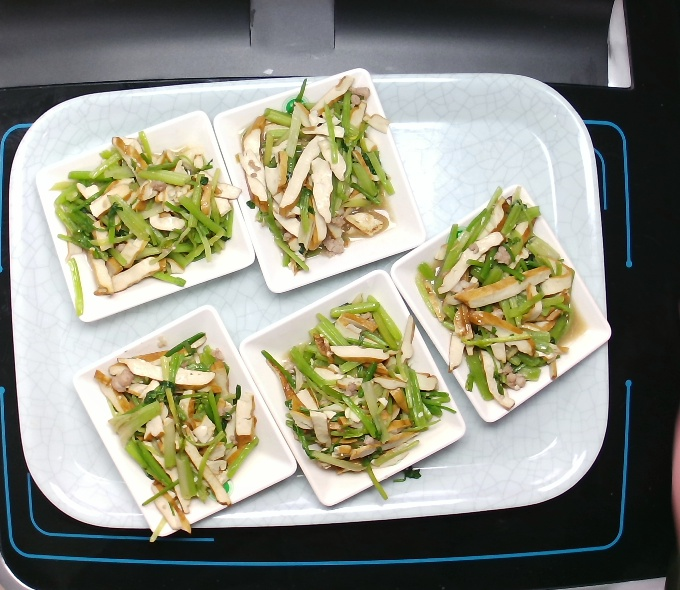wcq-XiangGanQinCai: (256, 290, 461, 504), (411, 177, 584, 416), (89, 326, 265, 550), (46, 123, 243, 319), (232, 72, 403, 280)
